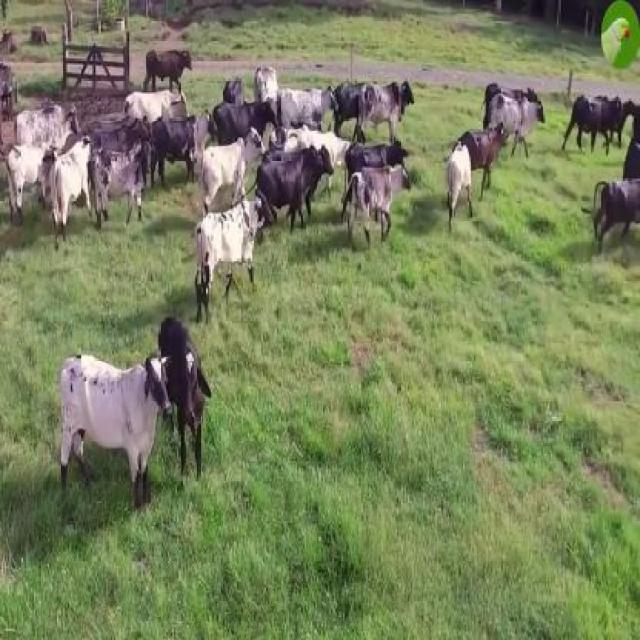Cow: (57, 351, 168, 506), (196, 198, 264, 318), (342, 166, 409, 254), (489, 92, 545, 160)
